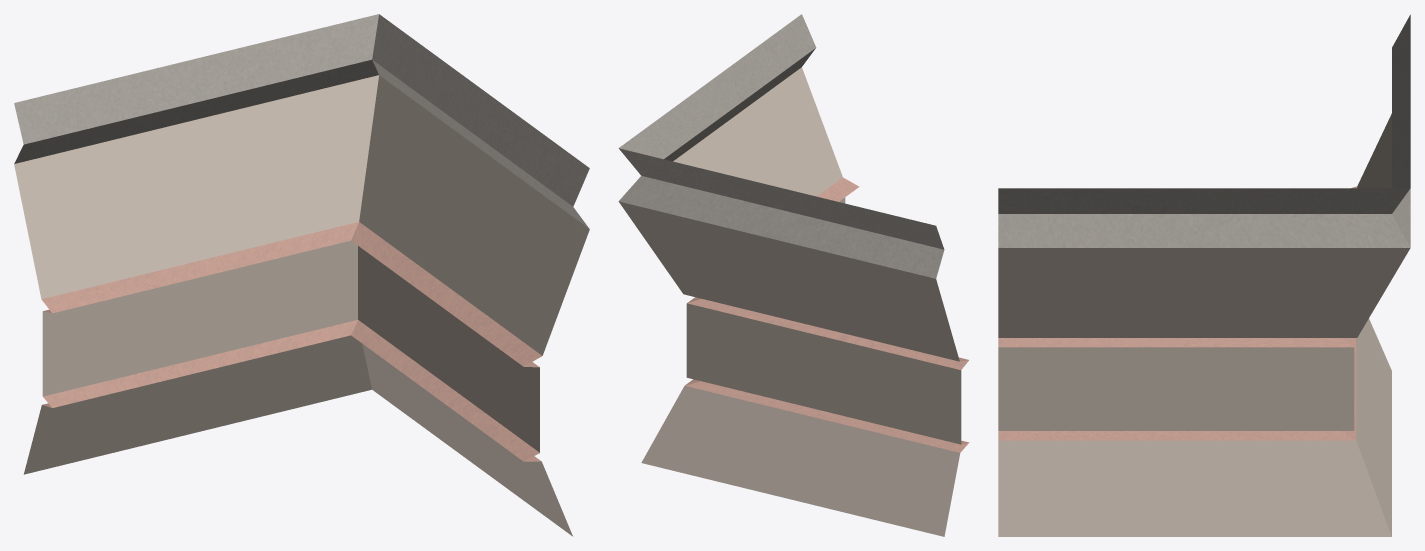
File: Wall_Cuverd_Inside_invertido.obj
3 renders of one model, left to right at view 1: azimuth 30°, elevation 25°; view 2: azimuth 150°, elevation 25°; view 3: azimuth 270°, elevation 25°, orthographic. The views are drawn at different scales.
Parts seen in each view (by area): view 1: Wall_Cuverd_Inside_invertido; view 2: Wall_Cuverd_Inside_invertido; view 3: Wall_Cuverd_Inside_invertido.
Part boxes in pixels (x1,y1,x2,y2): Wall_Cuverd_Inside_invertido: [14, 14, 589, 536]; Wall_Cuverd_Inside_invertido: [618, 14, 969, 536]; Wall_Cuverd_Inside_invertido: [998, 14, 1410, 536].
Bounding box in the file's own units: 10.48 × 10 × 10.48.
